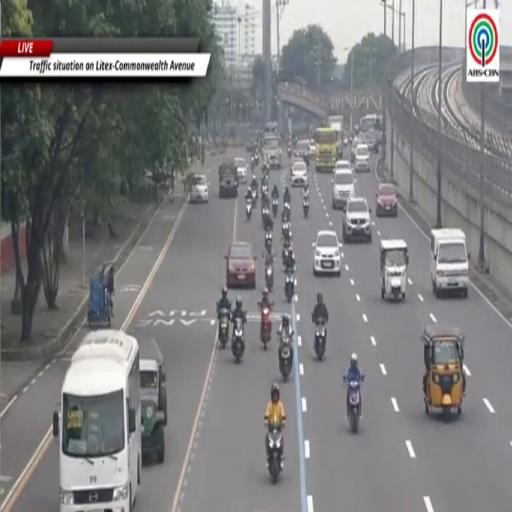bus: (53, 330, 142, 511), (360, 115, 383, 133)
car: (140, 340, 167, 463), (226, 243, 255, 289), (343, 197, 371, 243), (313, 231, 341, 276), (333, 168, 356, 210), (219, 159, 238, 198), (376, 184, 398, 216), (262, 134, 281, 168), (189, 174, 208, 202), (291, 162, 308, 186), (355, 144, 369, 172), (294, 140, 310, 164), (234, 157, 248, 183), (351, 137, 363, 164), (365, 131, 378, 152), (334, 159, 351, 172), (246, 138, 257, 152), (309, 139, 315, 157)
motorcycle: (343, 376, 364, 434), (268, 426, 282, 484), (258, 303, 272, 349), (279, 333, 292, 381), (232, 318, 244, 362), (314, 318, 326, 360), (218, 309, 230, 348), (285, 269, 294, 302), (262, 207, 273, 231), (282, 237, 291, 266), (265, 265, 273, 291), (262, 206, 270, 228), (246, 199, 253, 220), (282, 221, 290, 238), (265, 231, 272, 250), (272, 199, 278, 218), (303, 198, 309, 217), (283, 203, 290, 219), (252, 187, 257, 207), (282, 210, 290, 222), (261, 183, 268, 196), (251, 157, 255, 171), (254, 153, 258, 165), (288, 147, 291, 157)
tricycle: (88, 263, 113, 328)
truck: (315, 127, 337, 171), (262, 133, 281, 169), (328, 116, 343, 157)
